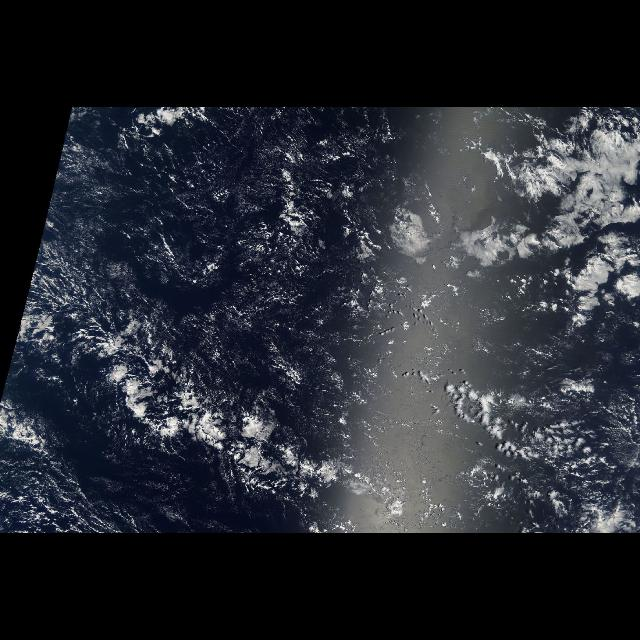Fish: (68, 300, 362, 510)
Sugar: (55, 110, 389, 344)
